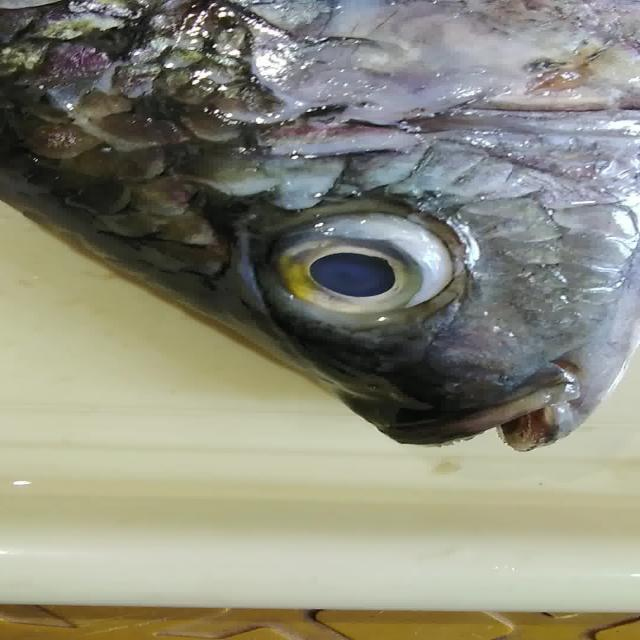Fresh: (198, 182, 512, 342)
